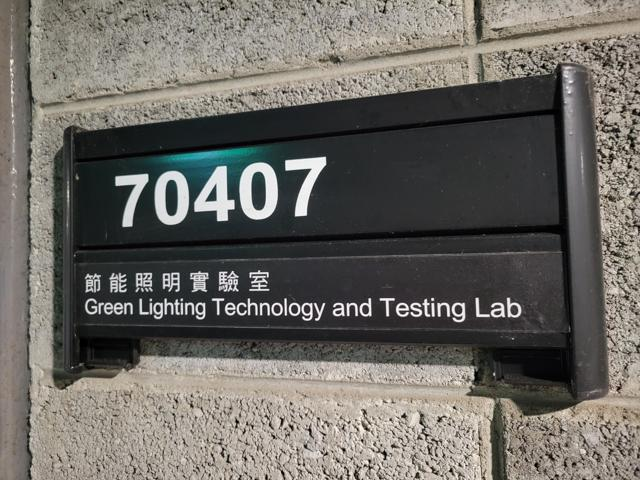doorplate: (48, 57, 615, 411)
